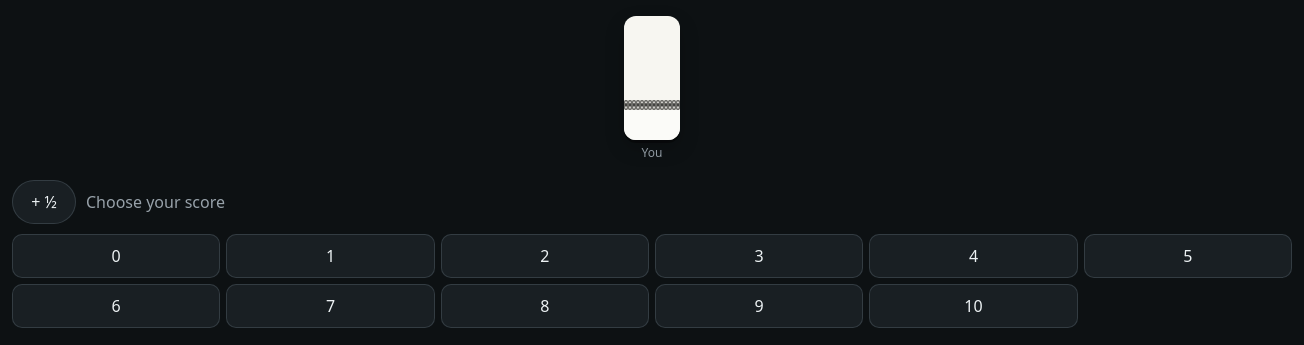
Test case: has no default vote, accepts zero and keeps half points within the score scale
The image size is (1304, 345).
Expected: the button "+ ½" is disabled, [12, 180, 76, 224]
Click the button named "0 out of 10" at x=116, y=256, box [12, 234, 220, 278]
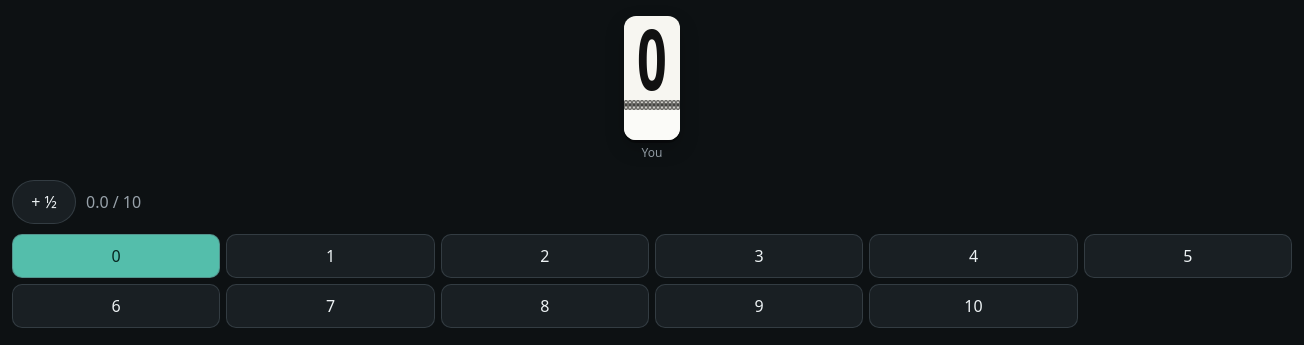
Expected: the picture named "0.0 out of 10" is shown, [624, 16, 680, 140]
Click the button "+ ½" at x=44, y=202, box [12, 180, 76, 224]
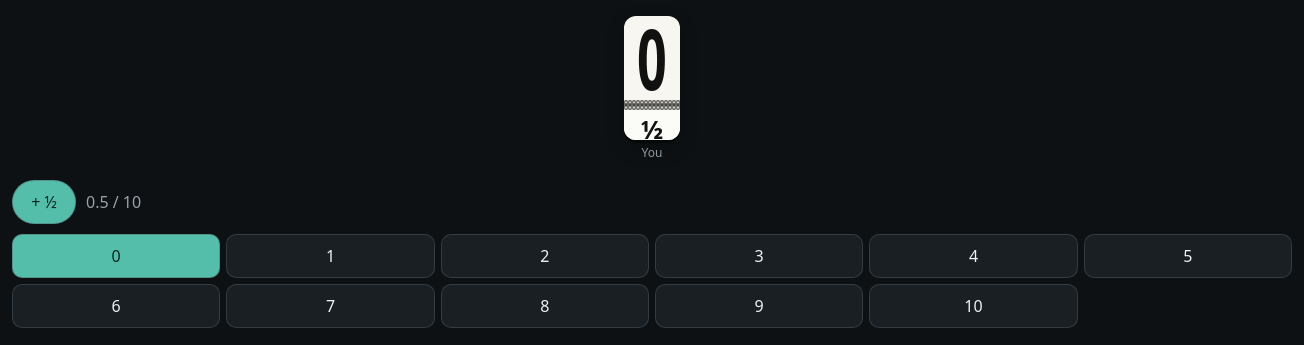
Expected: the picture named "0.5 out of 10" is shown, [624, 16, 680, 140]
Click the button named "7 out of 10" at x=330, y=306, box [226, 284, 435, 328]
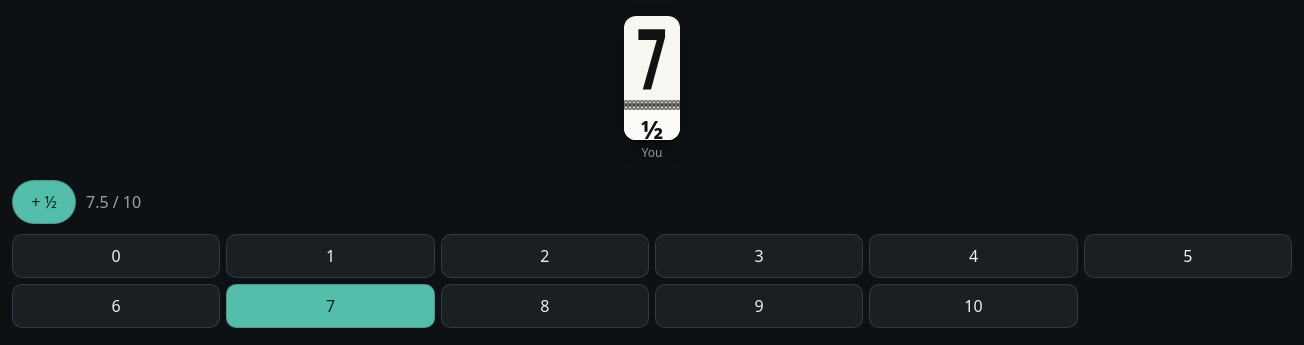
Expected: the picture named "7.5 out of 10" is shown, [624, 16, 680, 140]
Click the button named "10 out of 10" at x=973, y=306, box [869, 284, 1078, 328]
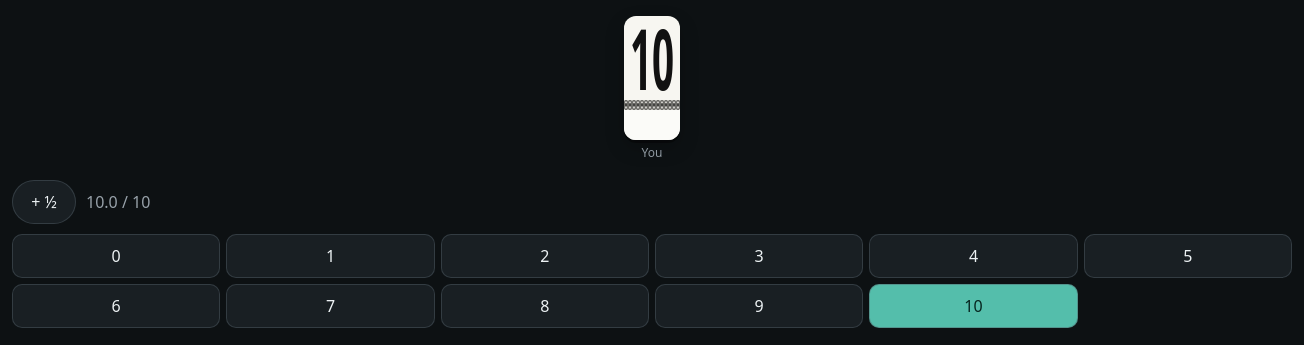
Expected: the button "+ ½" is disabled, [12, 180, 76, 224]
Expected: the picture named "10.0 out of 10" is shown, [624, 16, 680, 140]
